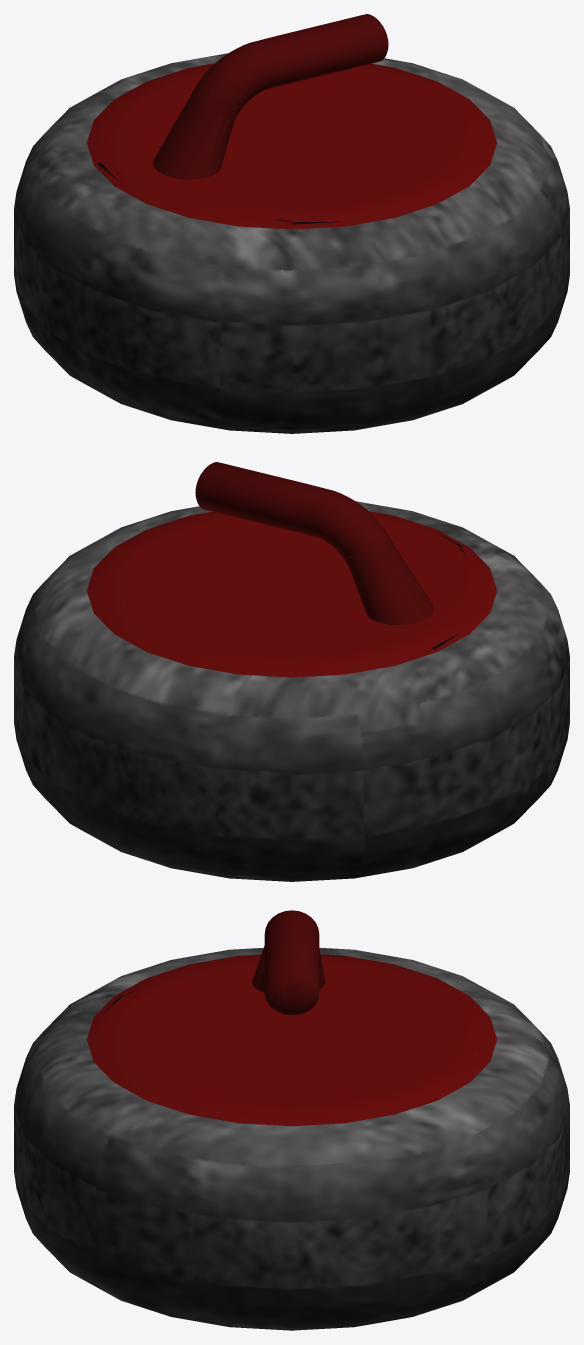
The model's file is stone3.fbx.
3 renders of one model, top to bottom at view 1: azimuth 30°, elevation 25°; view 2: azimuth 150°, elevation 25°; view 3: azimuth 270°, elevation 25°, orthographic.
Visible parts, largest first — view 1: stone; view 2: stone; view 3: stone.
Boxes of the visible parts, x1=… form: stone: x1=14, y1=14, x2=569, y2=433; stone: x1=14, y1=462, x2=569, y2=881; stone: x1=14, y1=910, x2=569, y2=1330.
Size of the model in its own units: 1146 by 693 by 1146.
